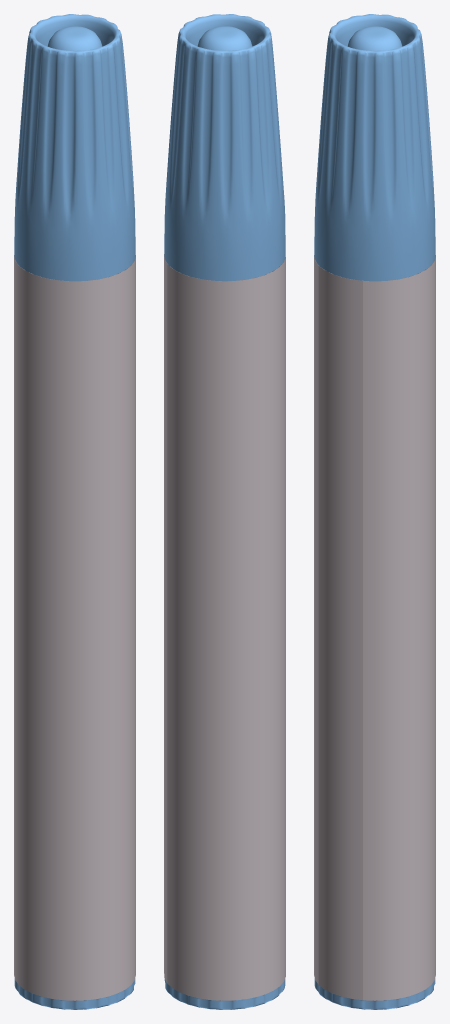
Rendered from marker_blue.fbx.
3 views of the same model, side by side, from view 1: azimuth 90°, elevation 25°; view 2: azimuth 210°, elevation 25°; view 3: azimuth 270°, elevation 25° (orthographic).
Visible parts, largest first — view 1: Cylinder, Cylinder.002; view 2: Cylinder, Cylinder.002; view 3: Cylinder.002, Cylinder.
Part boxes in pixels (x1=…): Cylinder: x1=14, y1=255, x2=135, y2=1000; Cylinder.002: x1=14, y1=14, x2=135, y2=1009; Cylinder: x1=167, y1=257, x2=285, y2=1000; Cylinder.002: x1=164, y1=14, x2=285, y2=1009; Cylinder.002: x1=314, y1=14, x2=435, y2=1009; Cylinder: x1=314, y1=255, x2=435, y2=1000.
Bounding box in the file's own units: 19.82 × 171 × 19.82.
